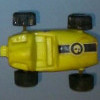amarillo_este: (2, 14, 100, 91)
